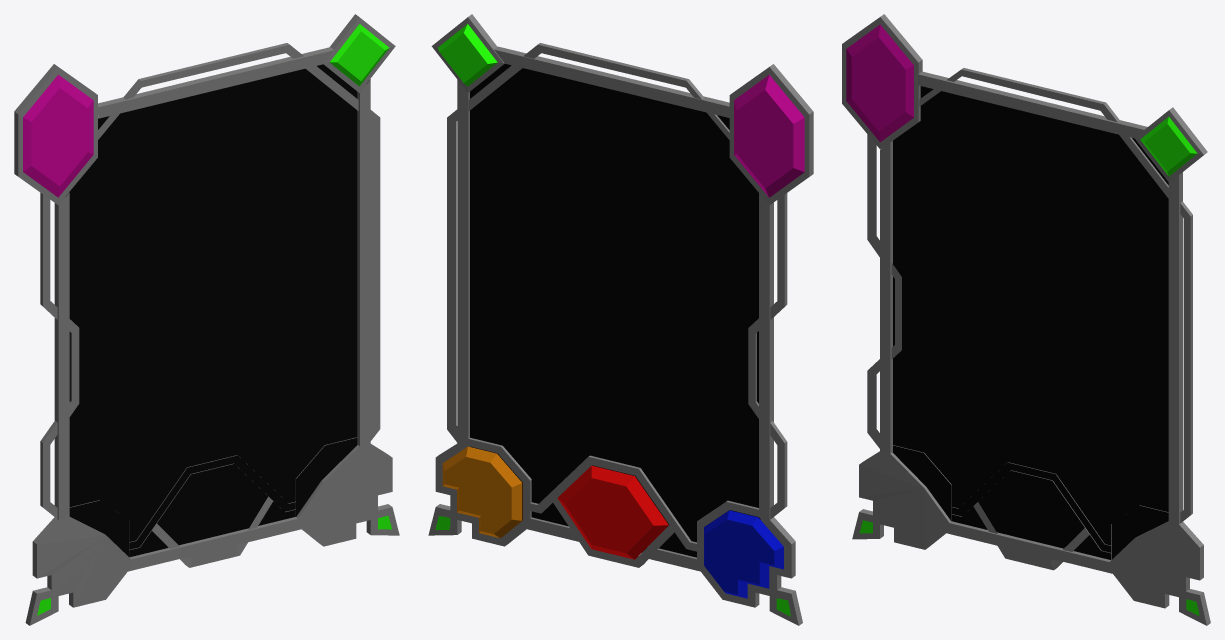
Rendered from tcg-card-debugging1.glb.
The picture shows the model from 3 angles, left to right: view 1: azimuth 30°, elevation 25°; view 2: azimuth 150°, elevation 25°; view 3: azimuth 330°, elevation 25°; orthographic projection. The views are drawn at different scales.
Visible parts, largest first — view 1: card-background, card-frame-core, card-attribute-cost, card-attribute-faction_cap; view 2: card-background, card-frame-core, card-attribute-cost, card-attribute-health, card-attribute-attack, card-attribute-defense, card-attribute-faction_cap; view 3: card-background, card-frame-core, card-attribute-cost, card-attribute-faction_cap.
Part boxes in pixels (x1=…): card-background: x1=69, y1=64, x2=357, y2=557; card-frame-core: x1=25, y1=43, x2=399, y2=625; card-attribute-cost: x1=14, y1=64, x2=97, y2=204; card-attribute-faction_cap: x1=37, y1=14, x2=395, y2=615; card-background: x1=470, y1=63, x2=760, y2=557; card-frame-core: x1=428, y1=43, x2=802, y2=625; card-attribute-cost: x1=729, y1=64, x2=813, y2=205; card-attribute-health: x1=557, y1=465, x2=668, y2=559; card-attribute-attack: x1=442, y1=446, x2=522, y2=538; card-attribute-defense: x1=704, y1=510, x2=783, y2=598; card-attribute-faction_cap: x1=431, y1=14, x2=790, y2=616; card-background: x1=892, y1=86, x2=1168, y2=559; card-frame-core: x1=852, y1=68, x2=1210, y2=625; card-attribute-cost: x1=842, y1=14, x2=922, y2=149; card-attribute-faction_cap: x1=859, y1=107, x2=1207, y2=615.
Size of what is drawn, in the model's own units: 2.62 by 3.63 by 0.1209.
1 material, 1 textured.
